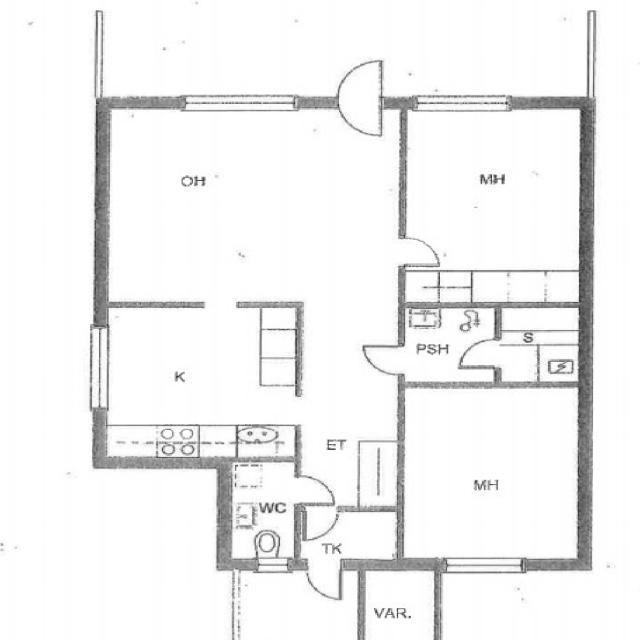door: (338, 96, 381, 144), (338, 60, 381, 108), (306, 559, 340, 598), (458, 338, 502, 368), (398, 393, 442, 422), (397, 238, 439, 266), (295, 476, 337, 504), (365, 346, 405, 374), (305, 507, 338, 539), (327, 608, 365, 633)
